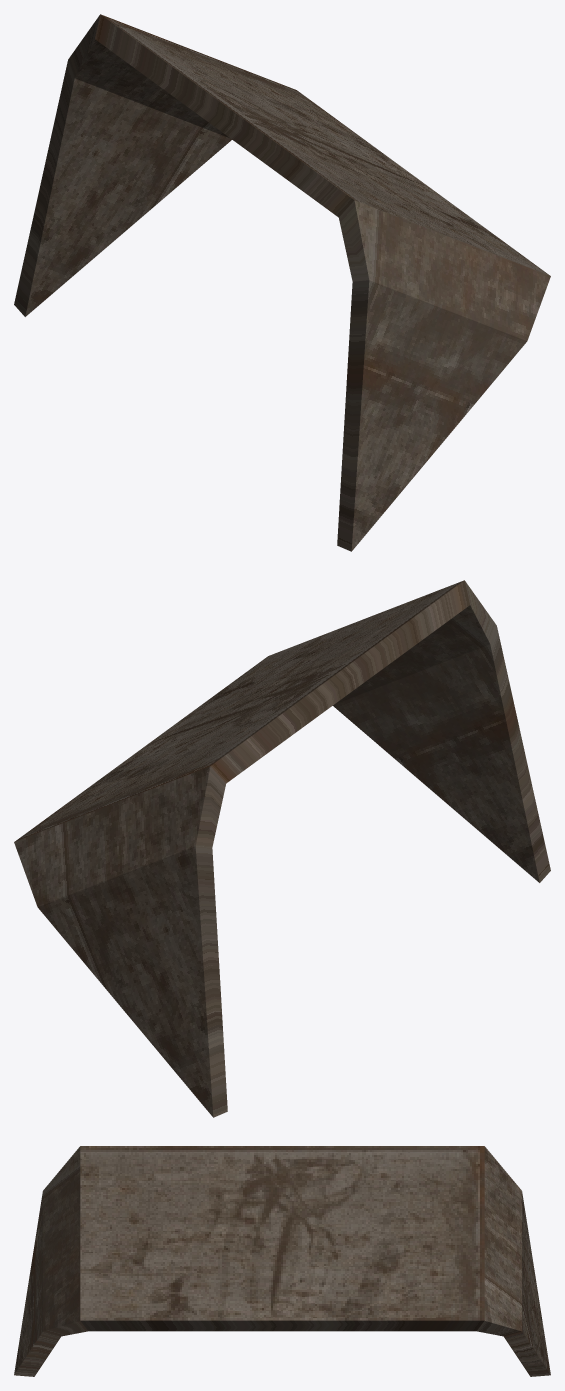
The model's file is dispenser_door_4.glb.
The picture shows the model from 3 angles, top to bottom: view 1: azimuth 30°, elevation 25°; view 2: azimuth 150°, elevation 25°; view 3: azimuth 270°, elevation 25°; orthographic projection. The views are drawn at different scales.
Parts seen in each view (by area): view 1: Cylinder.011; view 2: Cylinder.011; view 3: Cylinder.011.
Part boxes in pixels (x1=…): Cylinder.011: x1=14, y1=14, x2=550, y2=551; Cylinder.011: x1=14, y1=580, x2=550, y2=1117; Cylinder.011: x1=14, y1=1146, x2=550, y2=1376.
Size of the model in its own units: 0.5529 by 0.6812 by 1.33.
1 material, 1 textured.
